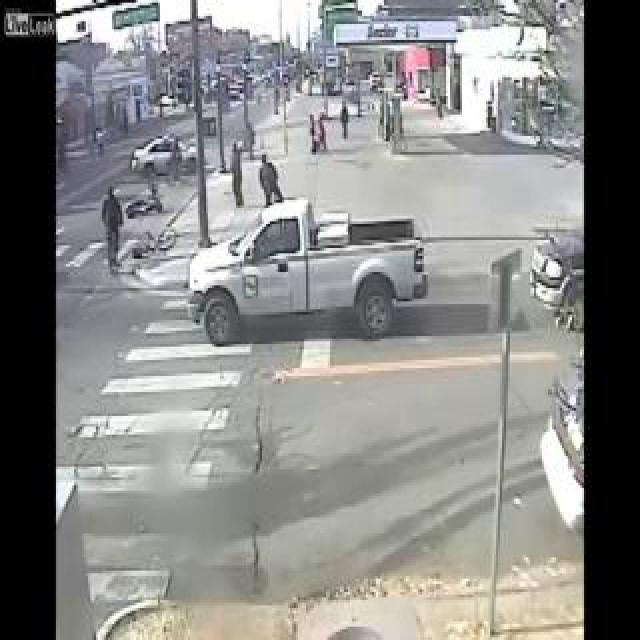road accidents: (66, 126, 209, 368)
